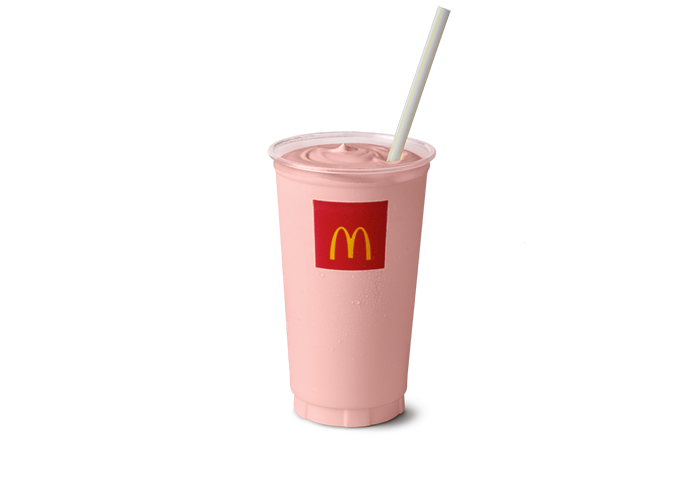mcdonalds: (327, 220, 376, 263)
